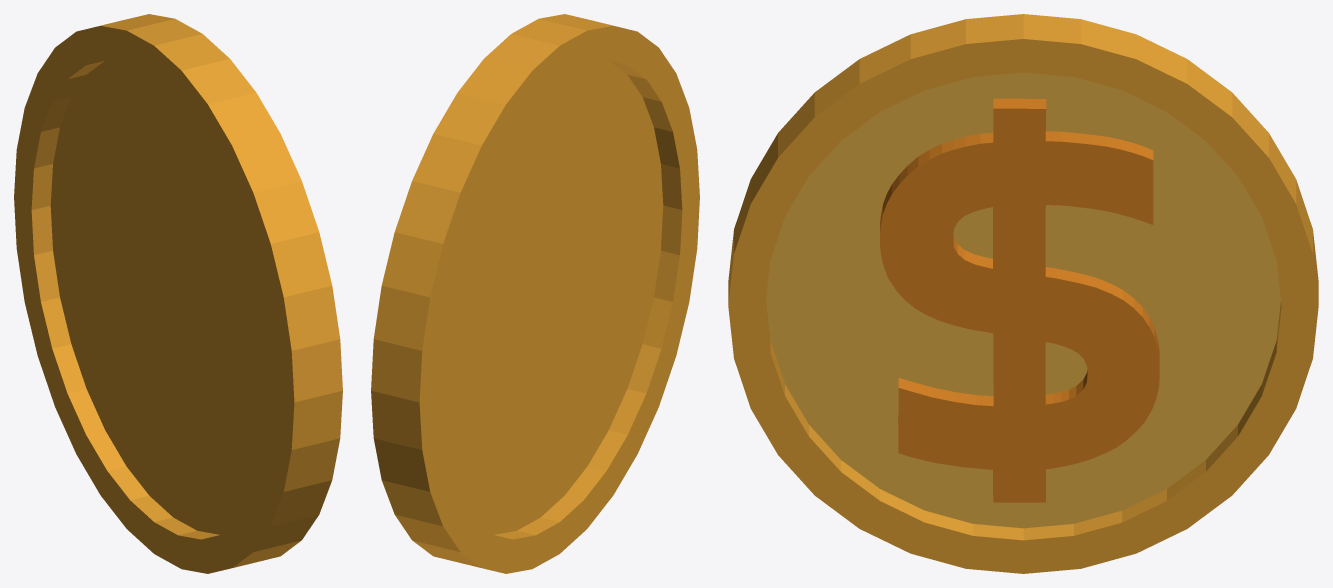
The model's file is moneda.glb.
3 views of the same model, side by side, from view 1: azimuth 30°, elevation 25°; view 2: azimuth 150°, elevation 25°; view 3: azimuth 270°, elevation 25° (orthographic). The views are drawn at different scales.
Parts seen in each view (by area): view 1: Cylinder; view 2: Cylinder; view 3: Cylinder.
Boxes of the visible parts, box(x1,y1,x2,y2) form: Cylinder: box(14, 14, 342, 573); Cylinder: box(371, 14, 699, 573); Cylinder: box(728, 14, 1318, 573).
Bounding box in the file's own units: 0.2372 × 2.37 × 2.37.
